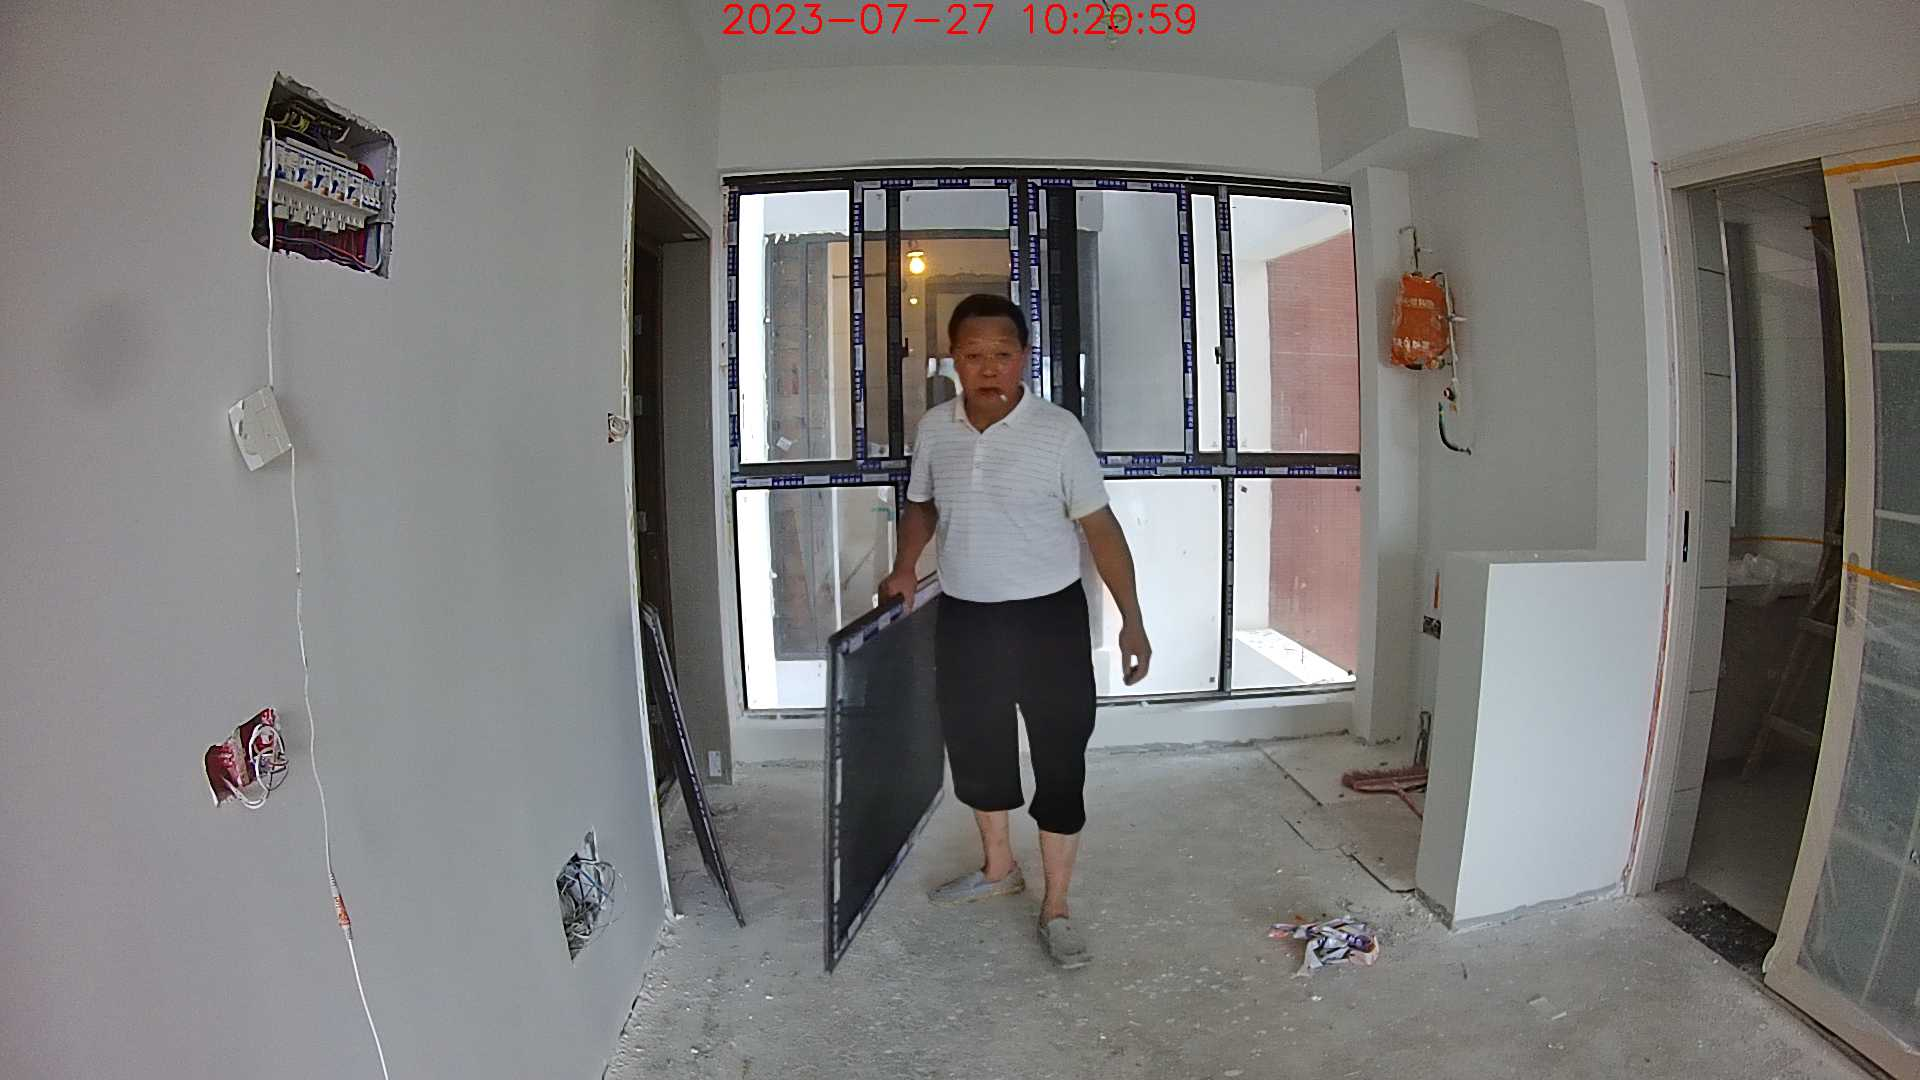people: (887, 293, 1161, 974)
window: (730, 178, 1377, 707)
